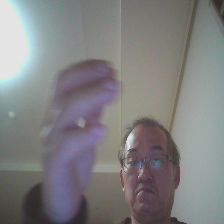hand: (38, 50, 117, 220)
